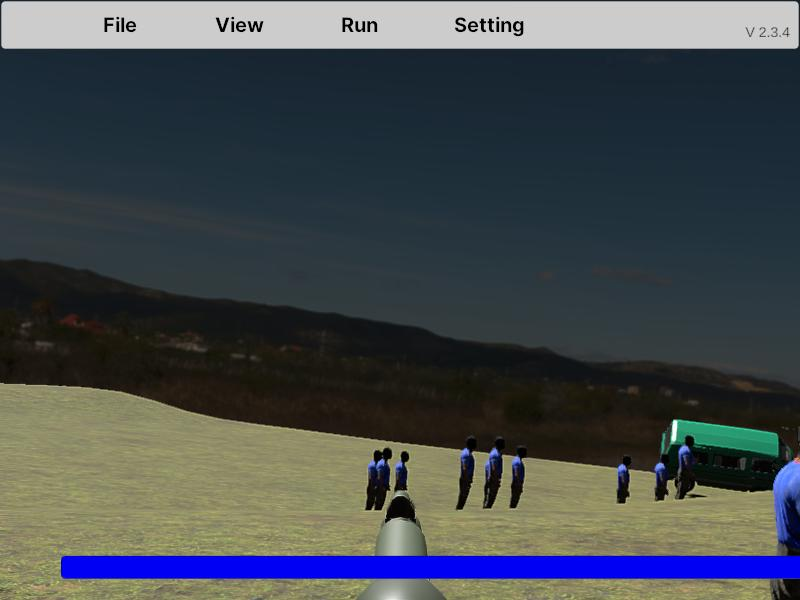Human: (772, 420, 800, 600), (481, 436, 505, 520), (506, 444, 526, 527), (675, 434, 697, 501)
car: (659, 417, 798, 497)
